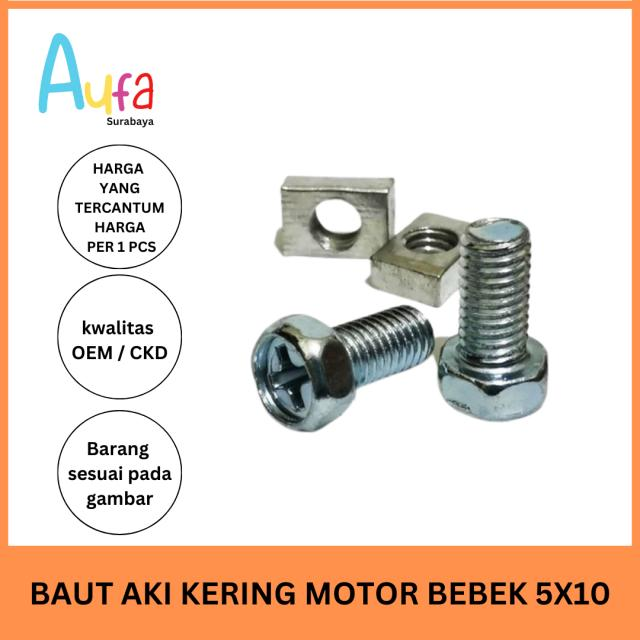Logam: (217, 111, 594, 488)
